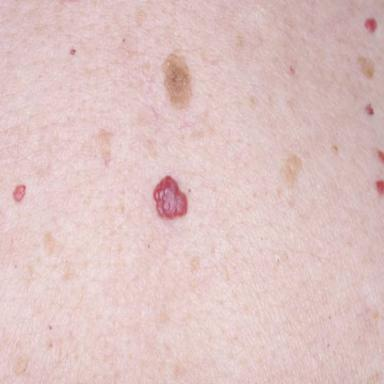Hemangiome: (154, 175, 187, 219), (13, 185, 26, 203), (365, 18, 377, 33)
